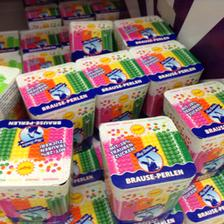Suessigkeit: (98, 115, 194, 223), (1, 116, 76, 220), (131, 36, 202, 120), (162, 79, 222, 176), (79, 54, 145, 140)
